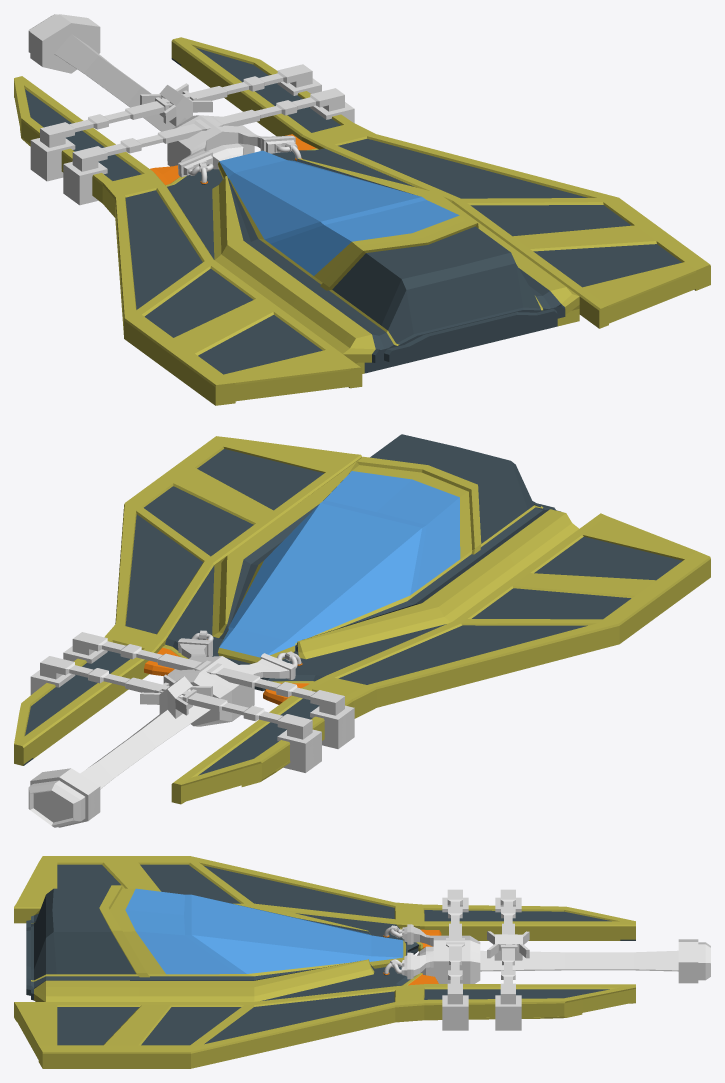
Rendered from SwiftSpace-Model2-MK1Gun_LaserPlayer_Hitbox.fbx.
The picture shows the model from 3 angles, top to bottom: view 1: azimuth 30°, elevation 25°; view 2: azimuth 150°, elevation 25°; view 3: azimuth 270°, elevation 25°; orthographic projection. The views are drawn at different scales.
Parts seen in each view (by area): view 1: Ship-Mk1, Gun_Laser; view 2: Ship-Mk1, Gun_Laser; view 3: Ship-Mk1, Gun_Laser.
Part boxes in pixels (<box>): Ship-Mk1: <box>14,37,710,405</box>; Gun_Laser: <box>28,14,354,205</box>; Ship-Mk1: <box>14,434,710,804</box>; Gun_Laser: <box>28,630,354,827</box>; Ship-Mk1: <box>14,856,635,1068</box>; Gun_Laser: <box>384,889,710,1030</box>.
Size of what is drawn, in the model's own units: 203 by 36.88 by 304.
